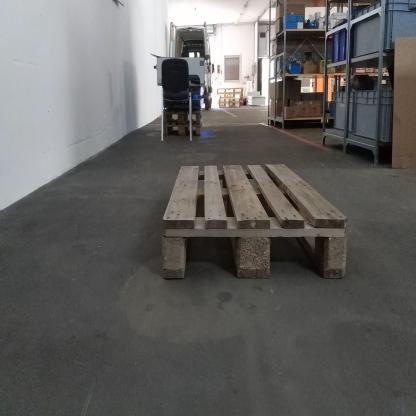BoxFace: (159, 157, 350, 288)
